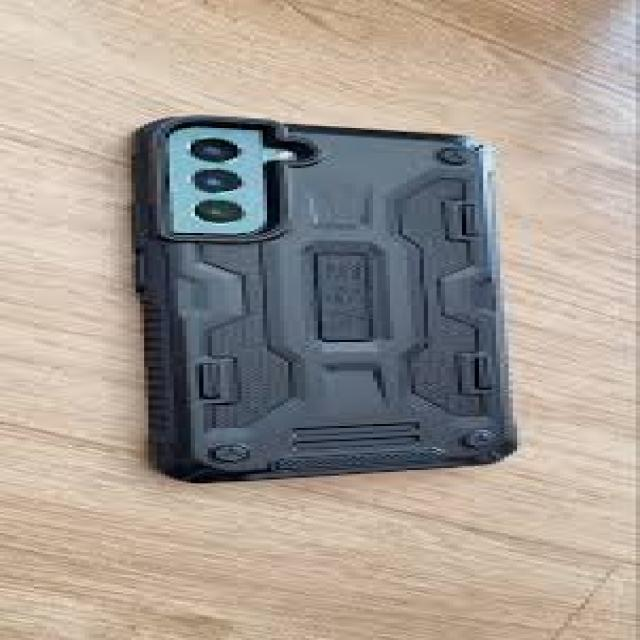lens: (170, 125, 278, 231)
phone: (136, 116, 517, 482)
